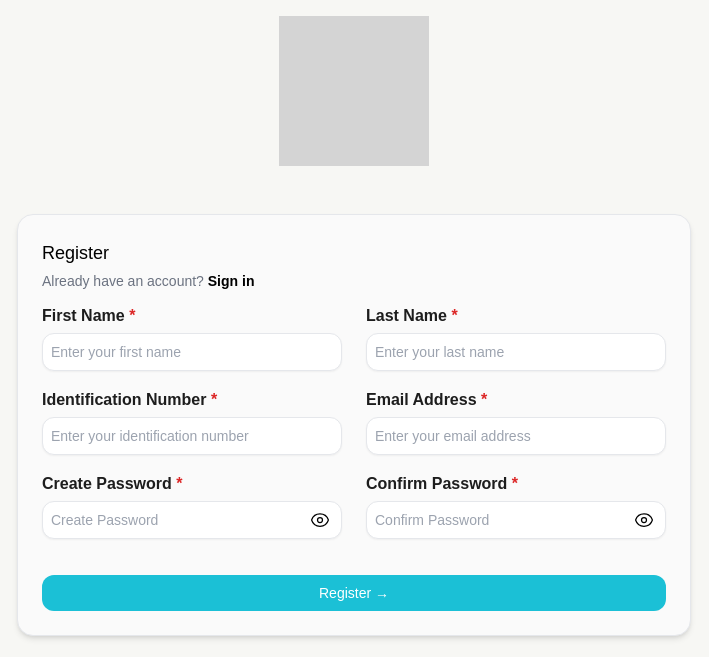
Test: AdminRegistration Component › handles API failure for invalid identification number
Type "Jane" into the field labelled "First Name *" at (192, 352), box [42, 333, 342, 371]
Type "Doe" into the field labelled "Last Name *" at (516, 352), box [366, 333, 666, 371]
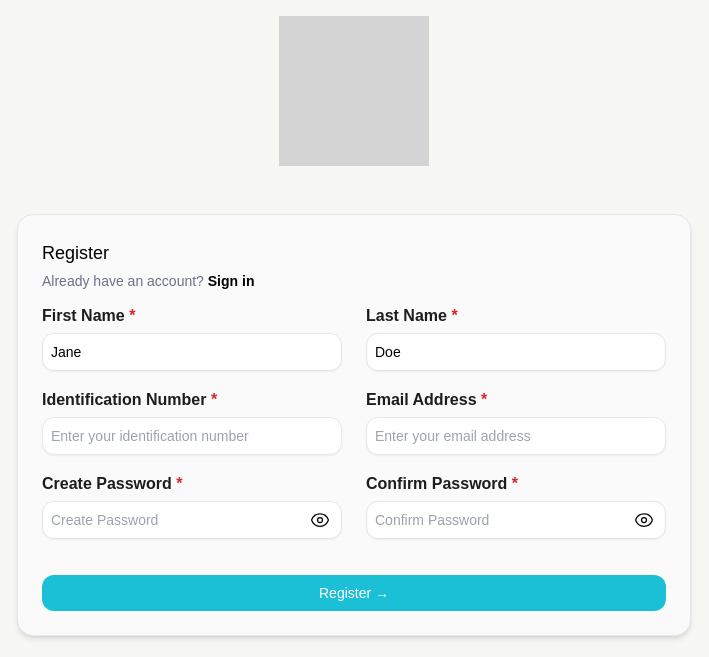
Type "invalid-id" into the field labelled "Identification Number *" at (192, 436), box [42, 417, 342, 455]
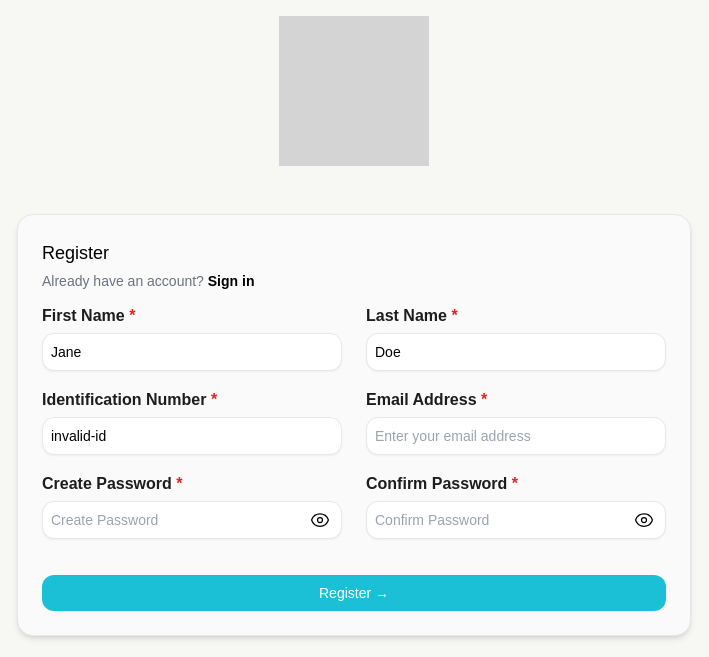
Type "jane.doe@example.com" into the field labelled "Email Address *" at (516, 436), box [366, 417, 666, 455]
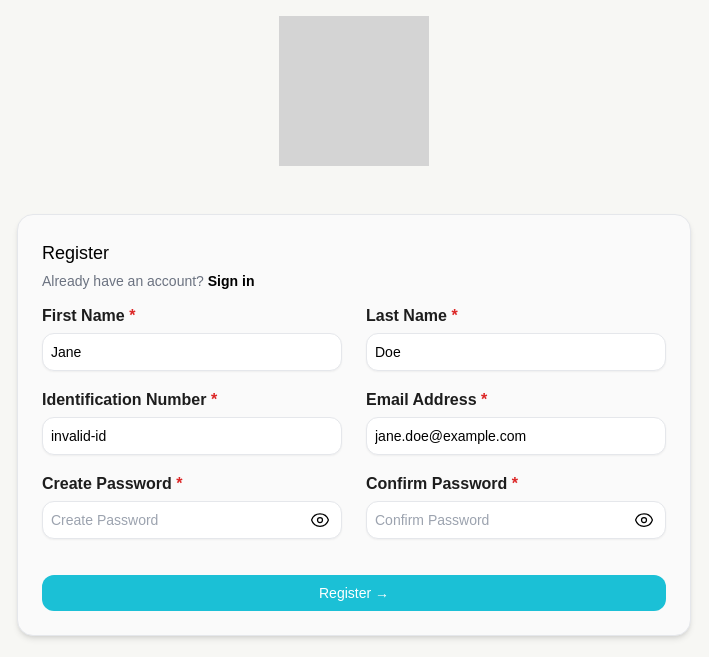
Type "StrongPass123!" into the password field labelled "Create Password *" at (192, 520), box [42, 501, 342, 539]
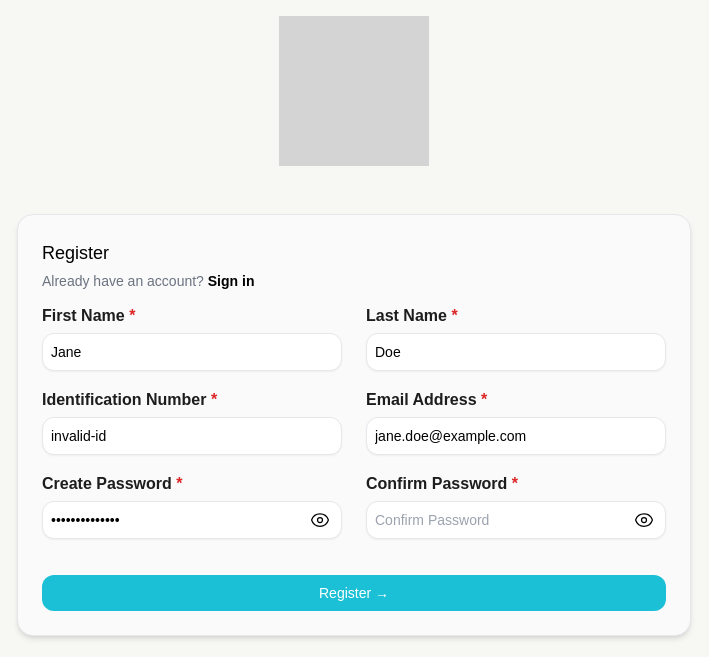
Type "StrongPass123!" into the password field labelled "Confirm Password *" at (516, 520), box [366, 501, 666, 539]
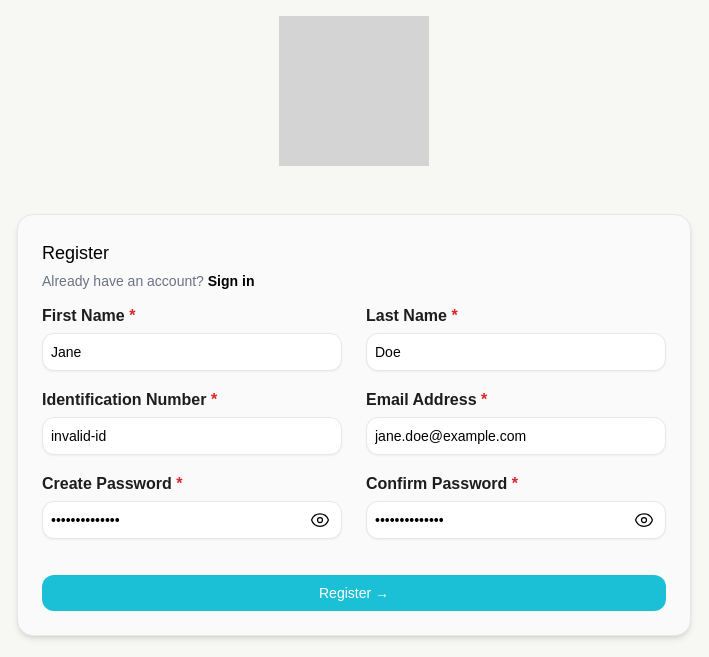
Note: Fill and submit form
Click the button "Register →" at (354, 593), box [42, 575, 666, 611]
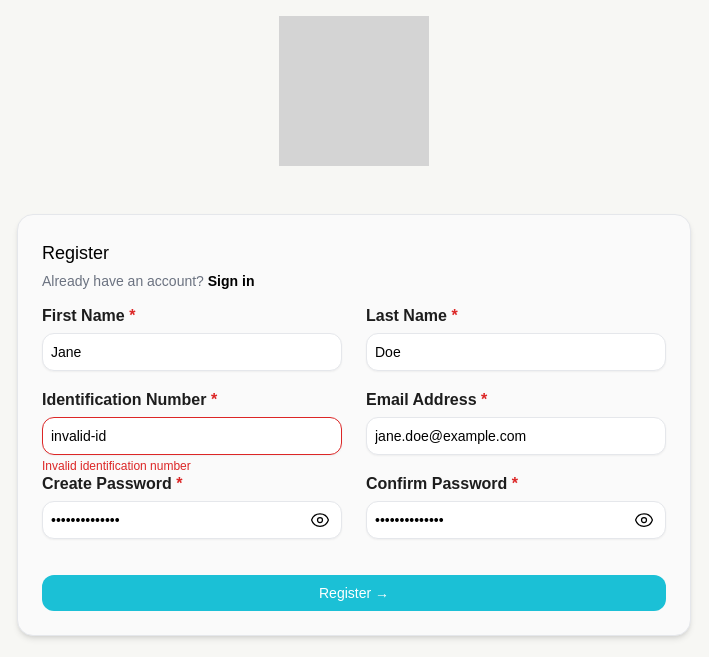
Expected: the text "Invalid identification number" is shown, [42, 459, 191, 473]
